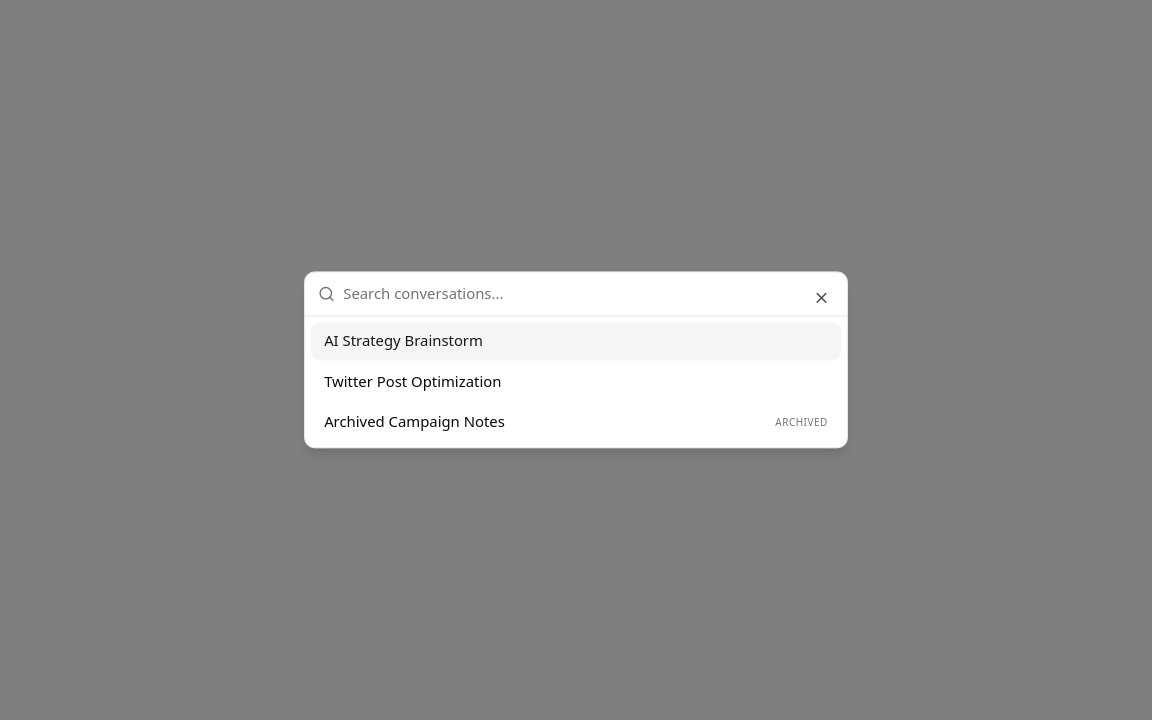
it: ThreadQuickSwitcherDialog › shows empty state when no threads match query
This screenshot has width=1152, height=720.
Type "nonexistent query" into the field with placeholder "Search conversations..." at [589, 294], box [343, 283, 834, 304]
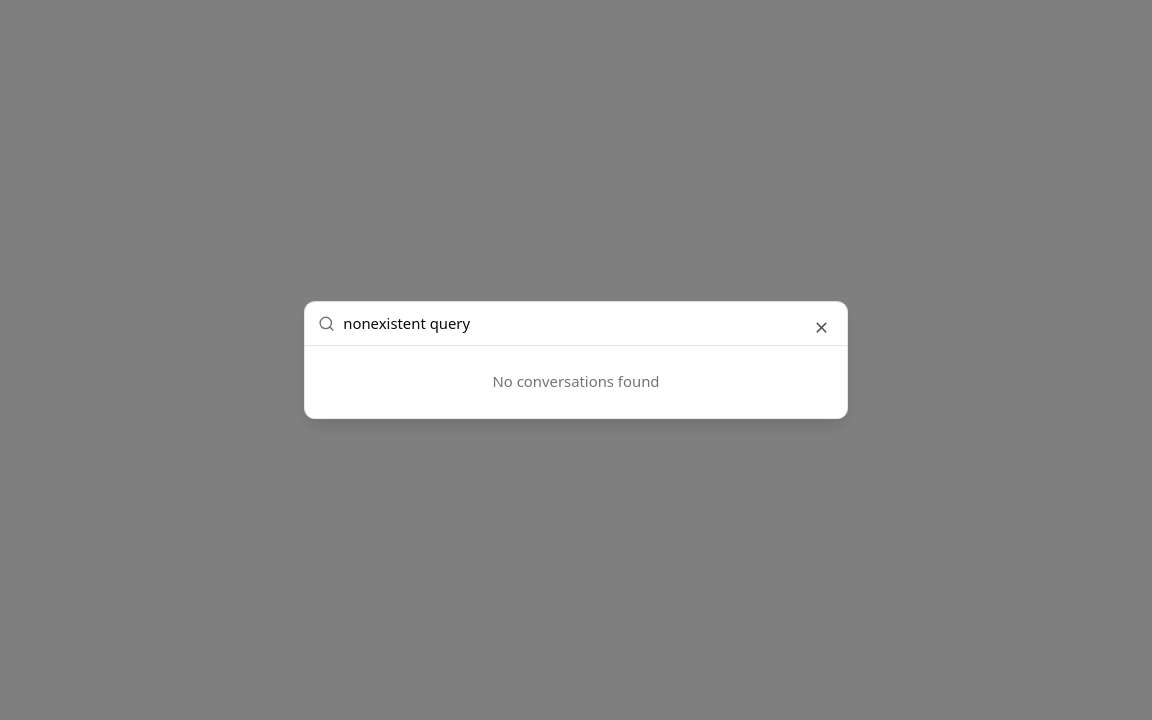
Expected: the text "No conversations found" is shown, [492, 371, 659, 391]
